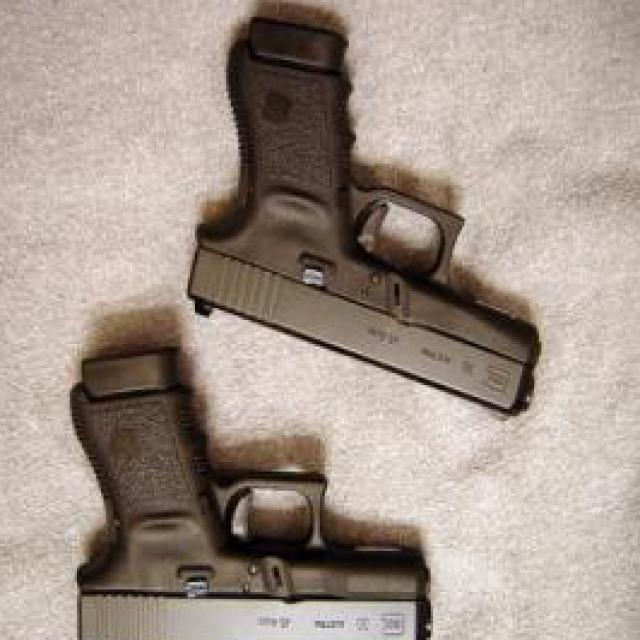pistol: (188, 16, 541, 423), (65, 351, 438, 640)
